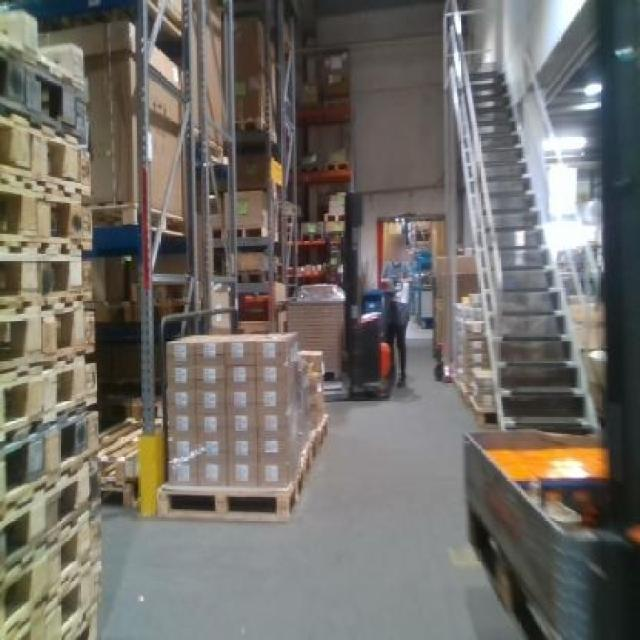pallets: (0, 9, 97, 637), (463, 429, 637, 637), (157, 332, 323, 517)
